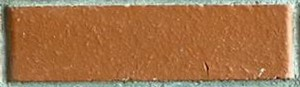redbrick: (1, 1, 300, 87)
